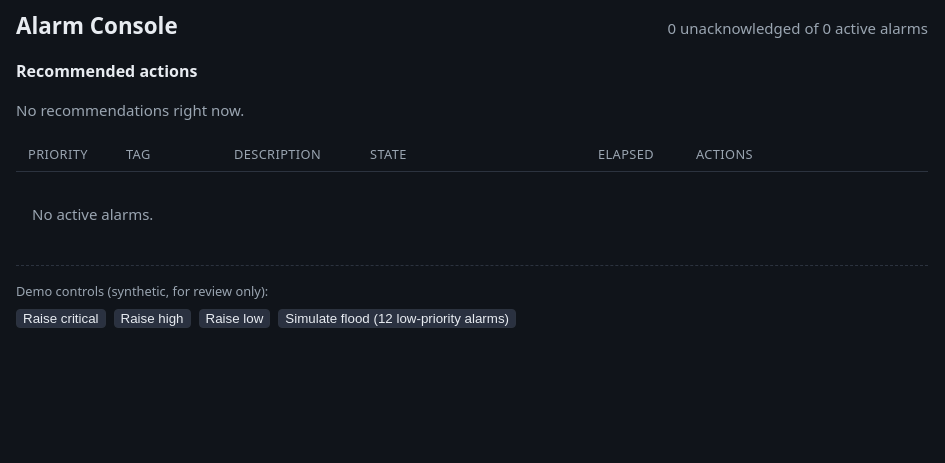
Scenario: AlarmConsole › raising an alarm surfaces a recommendation, and accepting it applies the underlying alarm action and logs the decision
Click the button "Raise high" at [152, 319], box left=114, top=309, right=190, bottom=328
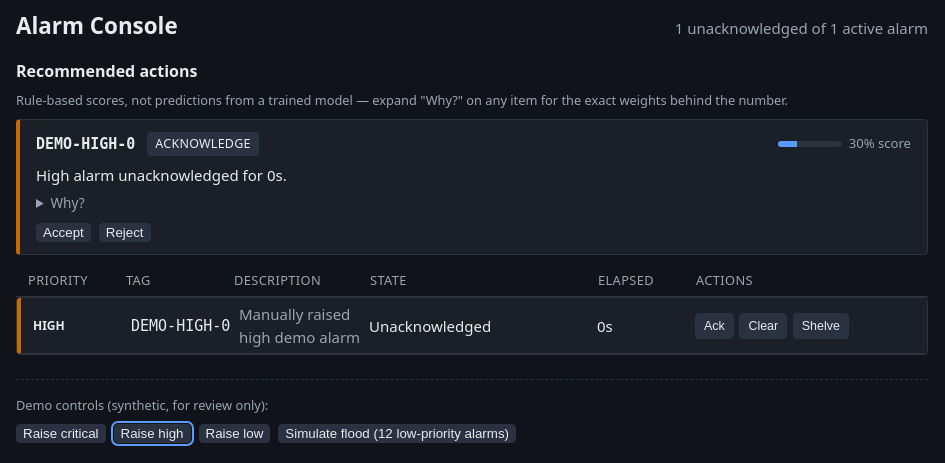
Result: the text "Acknowledge" is shown at left=147, top=132, right=259, bottom=156
Click the button with aria-label "Accept recommendation for" at [63, 232], box left=36, top=223, right=91, bottom=242
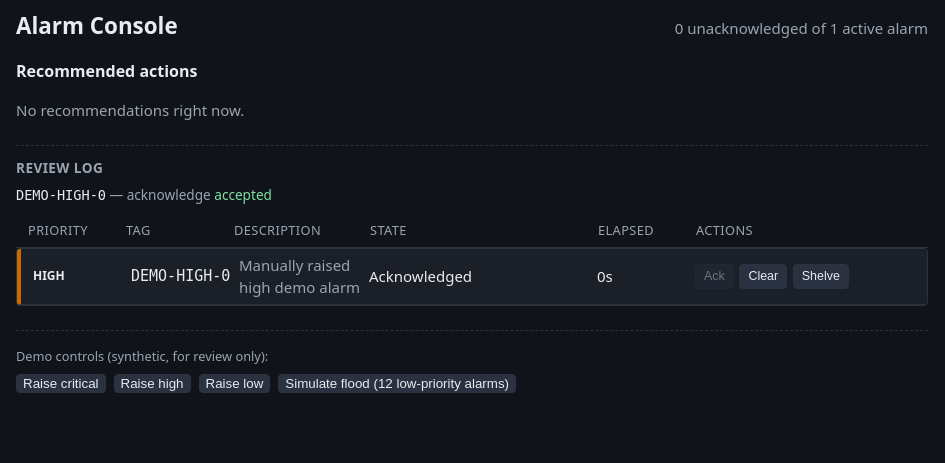
Result: the text "Acknowledged" is shown at left=369, top=266, right=472, bottom=286
Result: the text "No recommendations right now." is shown at left=16, top=100, right=244, bottom=120
Result: the text "accepted" is shown at left=214, top=185, right=272, bottom=204
